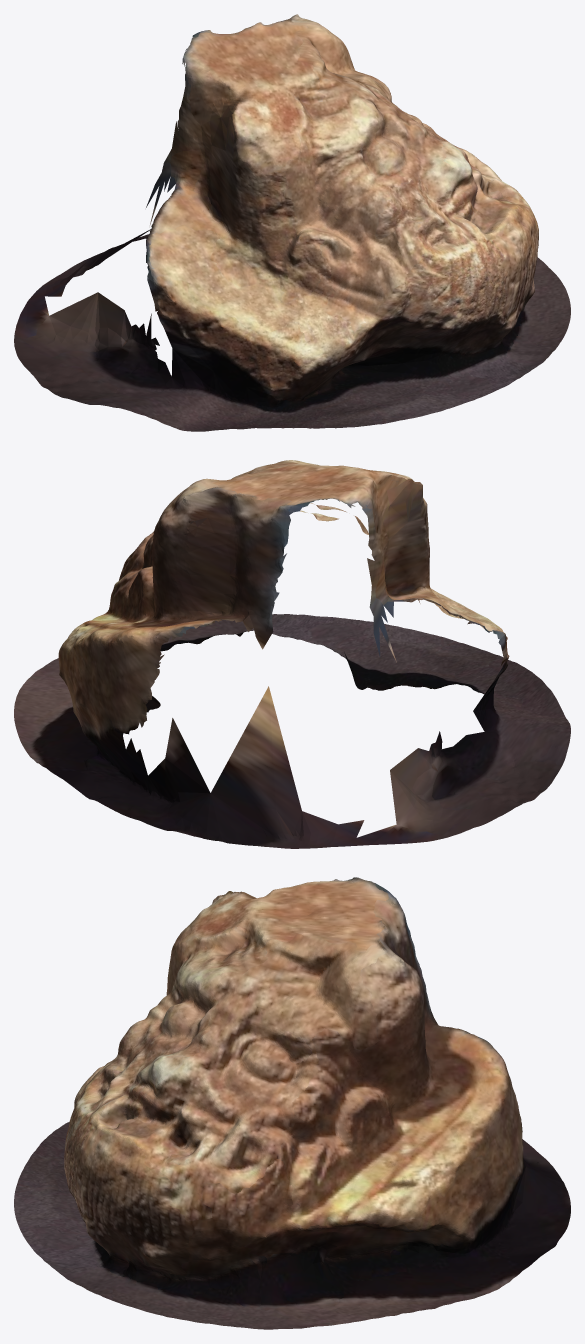
Rendered from kokaidotest1.glb.
The picture shows the model from 3 angles, top to bottom: view 1: azimuth 30°, elevation 25°; view 2: azimuth 150°, elevation 25°; view 3: azimuth 270°, elevation 25°; orthographic projection. The views are drawn at different scales.
Visible parts, largest first — view 1: mesh; view 2: mesh; view 3: mesh.
Boxes of the visible parts, box(x1,y1,x2,y2) form: mesh: box(14, 14, 570, 431); mesh: box(14, 460, 570, 848); mesh: box(14, 877, 570, 1329).
Bounding box in the file's own units: 0.548 × 0.3006 × 0.5026.
Materials: 1 (1 with a texture image).
